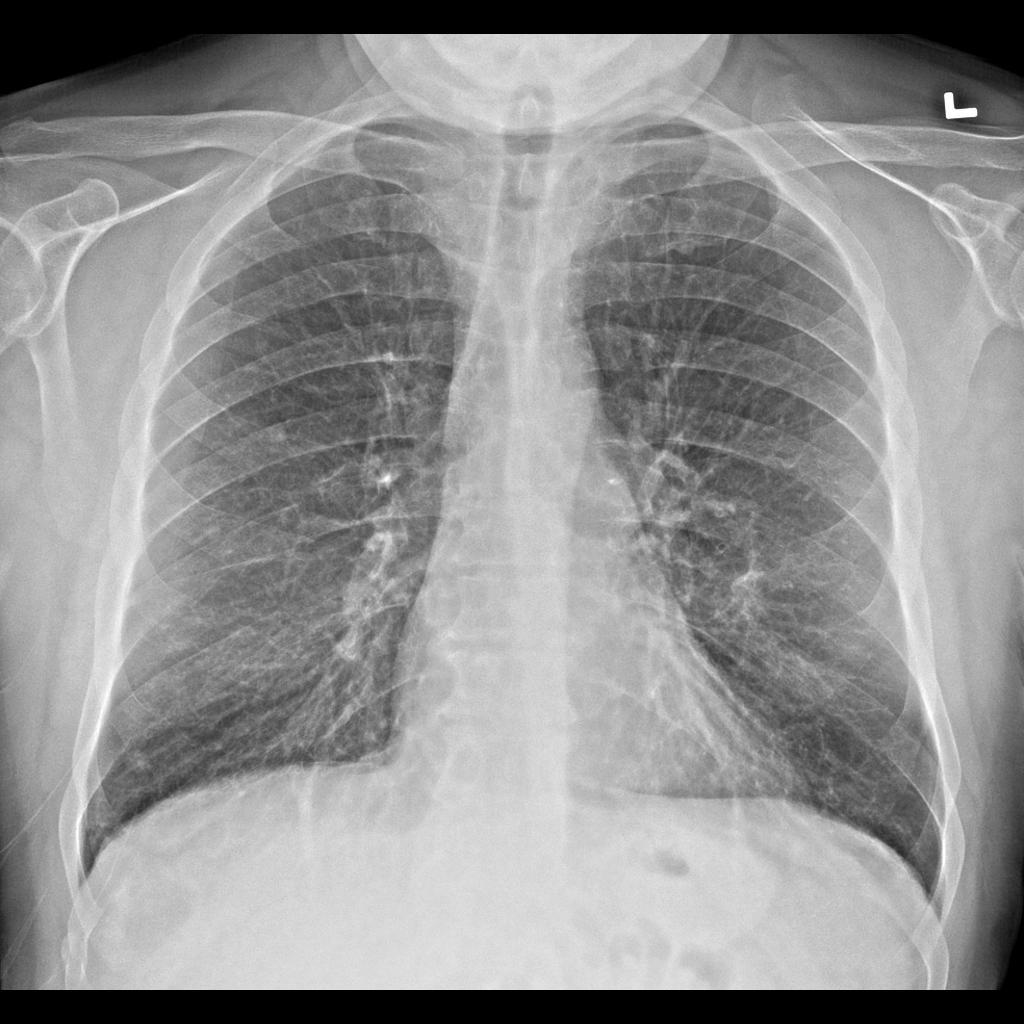Nodule: (118, 740, 158, 780)
